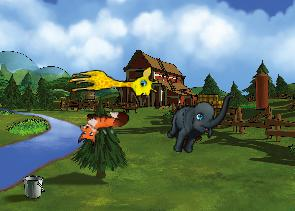elephant: (163, 81, 234, 162)
fox: (76, 110, 129, 146)
giraffe: (67, 65, 159, 103)
